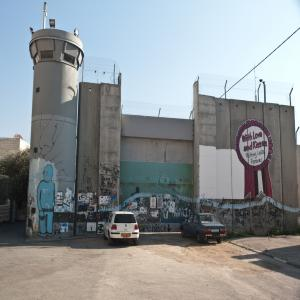Vehicle-registration-plate: (122, 234, 132, 238), (212, 228, 220, 233)
